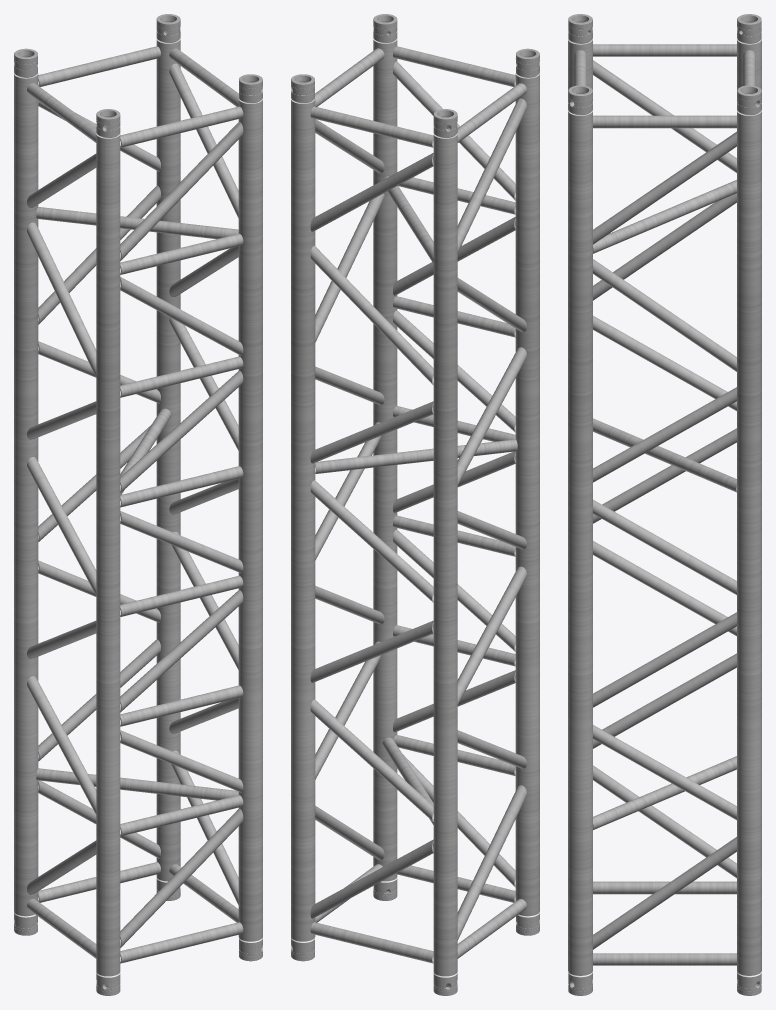
Rendered from Milos_M390UHD_2000_truss_section-dcca976e.glb.
3 renders of one model, left to right at view 1: azimuth 30°, elevation 25°; view 2: azimuth 150°, elevation 25°; view 3: azimuth 270°, elevation 25°, orthographic. The views are drawn at different scales.
Visible parts, largest first — view 1: Geom3D (×53); view 2: Geom3D (×52); view 3: Geom3D (×33).
Boxes of the visible parts, x1=… form: Geom3D (×53): x1=14, y1=14, x2=262, y2=976; Geom3D (×52): x1=291, y1=14, x2=539, y2=976; Geom3D (×33): x1=568, y1=14, x2=761, y2=995.
Bounding box in the file's own units: 0.39 × 2 × 0.39.
Materials: 2 (1 with a texture image).
